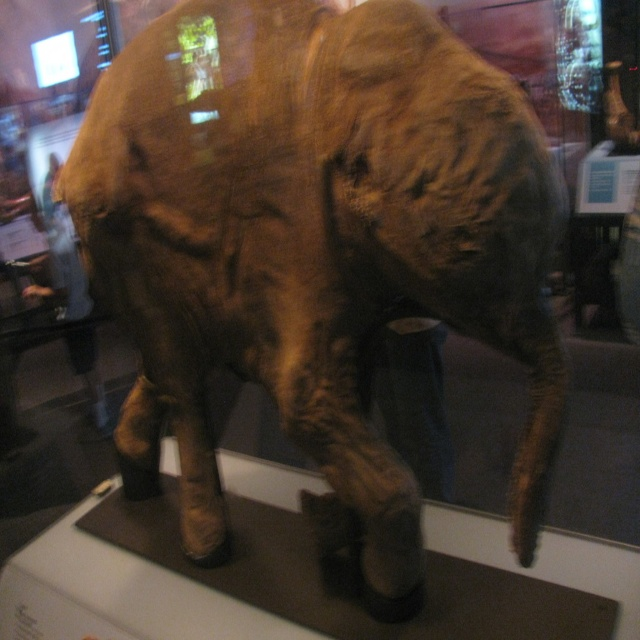Elephant: (34, 0, 578, 639)
